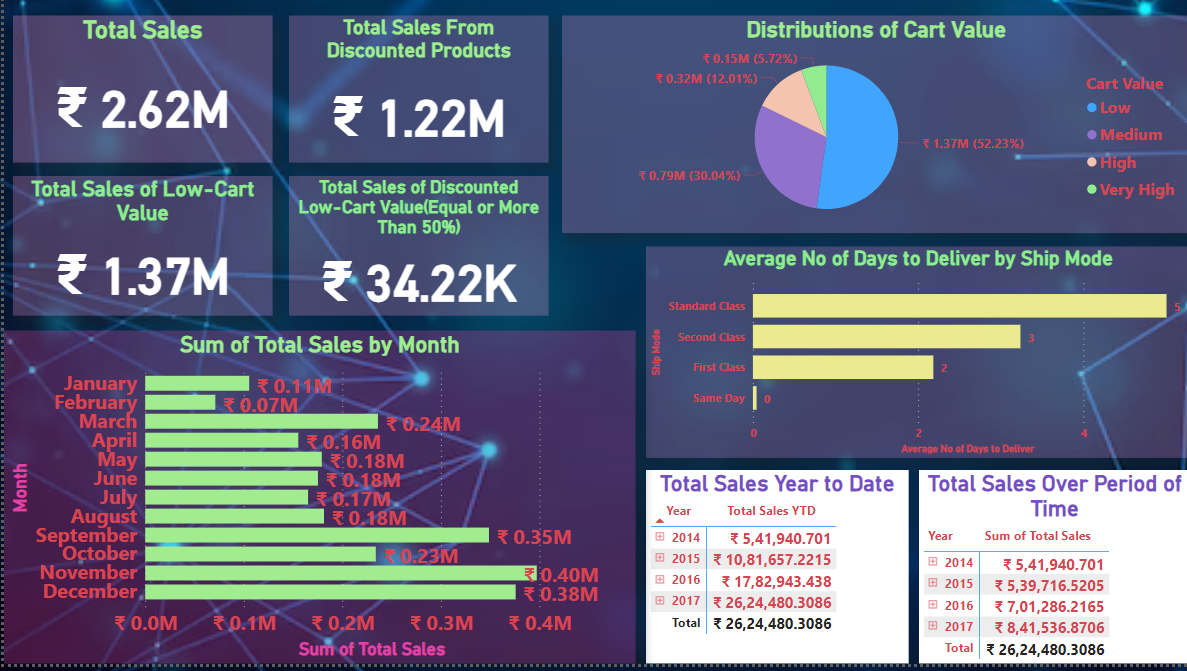

What the dashboard file says about the page in this screenshot:
{"tool":"powerbi","page":{"name":"Page 1","canvas":[1280,720],"ordinal":0},"visuals":[{"type":"card","title":"Total Sales","fields":{"Values":["Sum(Orders.Sales)"]},"box":[9.7,21,279.9,158.6],"z":0},{"type":"card","title":"Total Sales From Discounted Products","fields":{"Values":["Orders.Total Sales on Discounted Products"]},"box":[307.4,21,279.9,158.6],"z":1000},{"type":"pieChart","title":"Distributions of Cart Value","fields":{"Category":["Orders.Cart Value"],"Y":["Sum(Orders.Total Sales)"]},"box":[601.9,21,677.9,234.6],"z":2000},{"type":"card","title":"Total Sales of Low-Cart Value","fields":{"Values":["Orders.Total sales of Low-Cart value"]},"box":[9.7,194.2,279.9,150.5],"z":3000},{"type":"card","title":"Total Sales of Discounted Low-Cart Value(Equal or More Than 50%)","fields":{"Values":["Orders.Sales of Discounted Low-cart value"]},"box":[307.4,194.2,279.9,150.5],"z":4000},{"type":"clusteredBarChart","title":"Average No of Days to Deliver by Ship Mode","fields":{"Category":["Orders.Ship Mode"],"Y":["Orders.Average No of Days to Deliver"]},"box":[692.5,270.2,587.3,228.1],"z":5000},{"type":"pivotTable","title":"Total Sales Year to Date","fields":{"Rows":["Orders.Order Date.Variation.Date Hierarchy.Year","Orders.Order Date.Variation.Date Hierarchy.Quarter","Orders.Order Date.Variation.Date Hierarchy.Month","Orders.Order Date.Variation.Date Hierarchy.Day"],"Values":["Orders.Total Sales YTD"]},"box":[692.5,511.3,283.1,208.7],"z":6000},{"type":"pivotTable","title":"Total Sales Over Period of Time","fields":{"Values":["Sum(Orders.Total Sales)"],"Rows":["Orders.Order Date.Variation.Date Hierarchy.Year","Orders.Order Date.Variation.Date Hierarchy.Quarter","Orders.Order Date.Variation.Date Hierarchy.Month","Orders.Order Date.Variation.Date Hierarchy.Day"]},"box":[987,511.3,292.9,208.7],"z":7000},{"type":"clusteredBarChart","fields":{"Y":["Sum(Orders.Total Sales)"],"Category":["Orders.Order Date.Variation.Date Hierarchy.Month"]},"box":[0,360.8,681.2,359.2],"z":8000}]}

Visuals, with their boxes in screenshot pixels (x1, y1, x2, y2), scaled from the page's 1280x720 canvas onto the 1187x671 screenshot:
"Total Sales" card: bbox=(9, 20, 269, 167)
"Total Sales From Discounted Products" card: bbox=(285, 20, 545, 167)
"Distributions of Cart Value" pieChart: bbox=(558, 20, 1186, 238)
"Total Sales of Low-Cart Value" card: bbox=(9, 181, 269, 321)
"Total Sales of Discounted Low-Cart Value(Equal or More Than 50%)" card: bbox=(285, 181, 545, 321)
"Average No of Days to Deliver by Ship Mode" clusteredBarChart: bbox=(642, 252, 1186, 464)
"Total Sales Year to Date" pivotTable: bbox=(642, 477, 905, 670)
"Total Sales Over Period of Time" pivotTable: bbox=(915, 477, 1186, 670)
clusteredBarChart - Sum(Orders.Total Sales) x Orders.Order Date.Variation.Date Hierarchy.Month: bbox=(0, 336, 632, 670)
